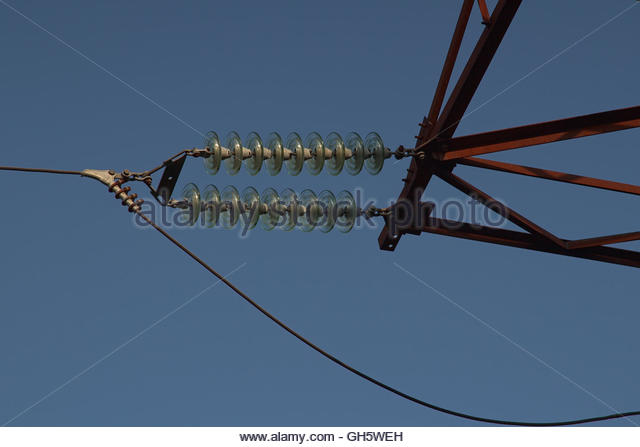isolator: (177, 128, 386, 234)
